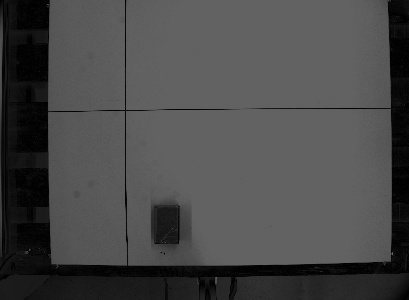b1: (152, 203, 182, 246)
